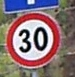limite 30: (4, 11, 61, 68)
